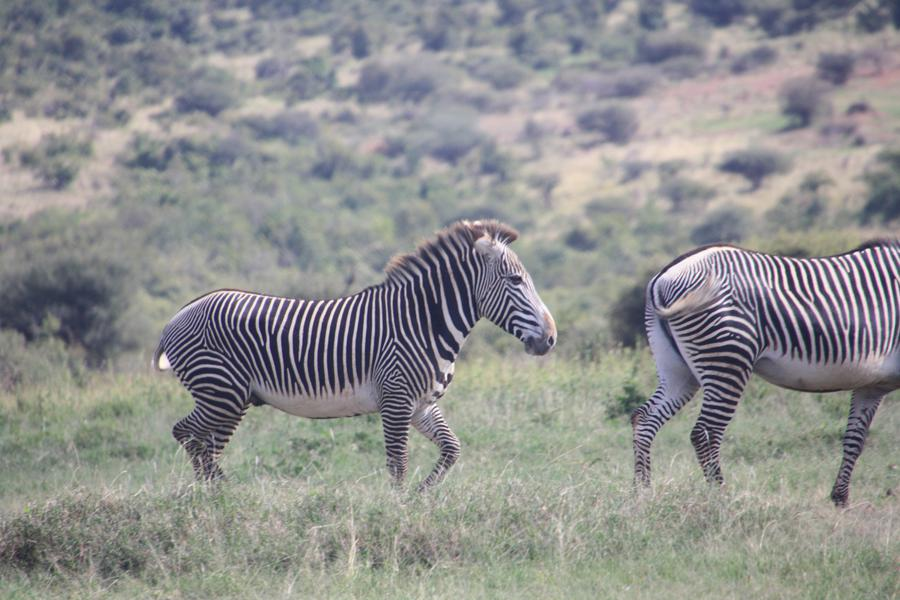zebra_grevys: (151, 277, 434, 407)
